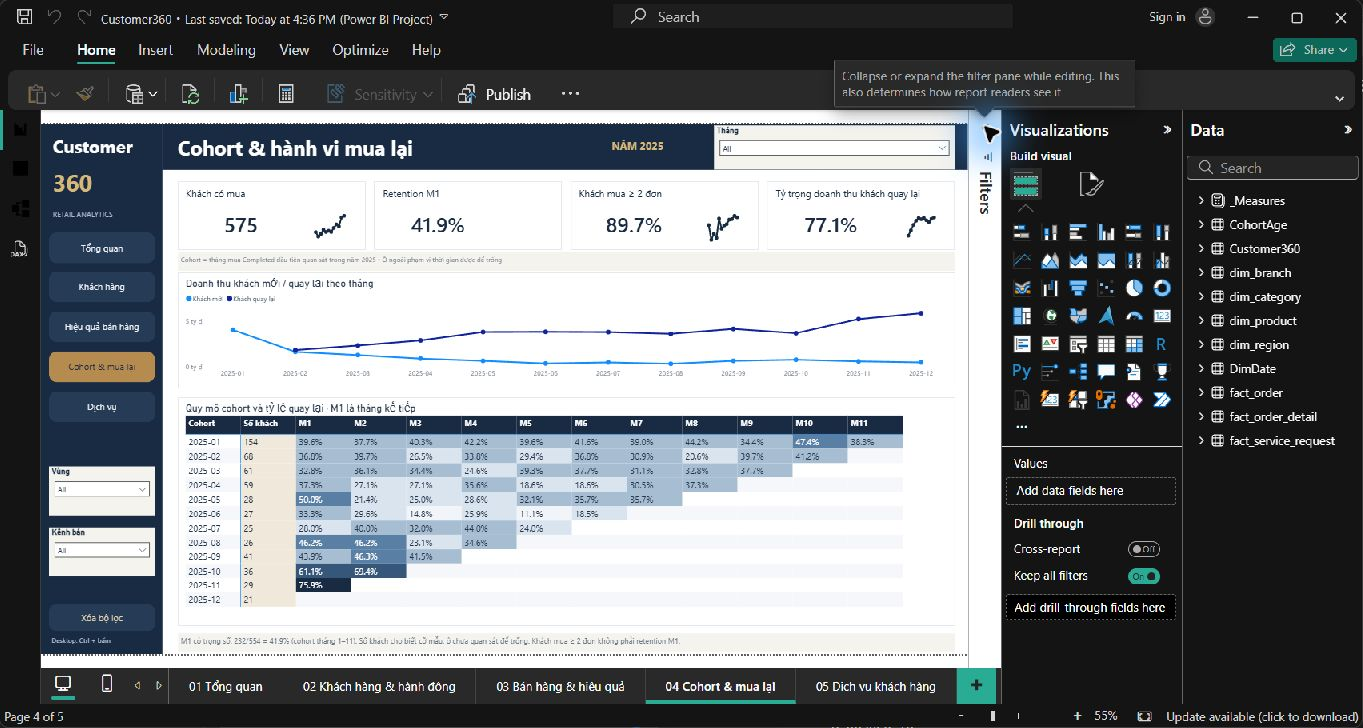

The page's visual inventory and layout, read from the dashboard file:
{"tool":"powerbi","page":{"name":"04 Cohort & mua lại","canvas":[1680,960],"ordinal":3},"visuals":[{"type":"textbox","box":[0,0,220,960],"z":0},{"type":"textbox","box":[220,0,1460,82],"z":0},{"type":"actionButton","box":[248,104,340,124],"z":1},{"type":"actionButton","box":[604,104,340,124],"z":1},{"type":"actionButton","box":[960,104,340,124],"z":1},{"type":"actionButton","box":[1316,104,340,124],"z":1},{"type":"actionButton","box":[248,268,1408,210],"z":1},{"type":"actionButton","box":[248,494,1408,414],"z":1},{"type":"actionButton","box":[14,195,192,56],"z":20},{"type":"actionButton","box":[14,267,192,56],"z":20},{"type":"actionButton","box":[14,339,192,56],"z":20},{"type":"actionButton","box":[14,411,192,56],"z":20},{"type":"actionButton","box":[14,483,192,56],"z":20},{"type":"actionButton","box":[14,870,192,48],"z":20},{"type":"textbox","box":[248,230,1408,35],"z":42},{"type":"slicer","title":"Tháng","fields":{"Values":["DimDate.MonthLabel"]},"box":[1220,1,436,80],"z":43},{"type":"slicer","title":"Vùng","fields":{"Values":["dim_region.region_name"]},"box":[14,620,192,89],"z":44},{"type":"lineChart","title":"Doanh thu khách mới / quay lại theo tháng","fields":{"Category":["DimDate.MonthLabel"],"Series":["fact_order.purchase_month_type"],"Y":["_Measures.Revenue Bn"]},"box":[258,276,1388,194],"z":45},{"type":"pivotTable","title":"Quy mô cohort và tỷ lệ quay lại · M1 là tháng kế tiếp","fields":{"Columns":["CohortAge.MonthLabel"],"Rows":["Customer360.cohort_month"],"Values":["_Measures.Cohort Cell"]},"box":[258,502,1388,398],"z":45},{"type":"slicer","title":"Kênh bán","fields":{"Values":["fact_order.sales_channel"]},"box":[14,730,192,89],"z":45},{"type":"textbox","box":[248,923,1408,33],"z":52},{"type":"card","fields":{"Values":["_Measures.Buying Customers"]},"box":[256,144,214,76],"z":60},{"type":"card","fields":{"Values":["_Measures.Retention M1 Weighted"]},"box":[612,144,214,76],"z":60},{"type":"card","fields":{"Values":["_Measures.Repeat Buyer Rate"]},"box":[968,144,214,76],"z":60},{"type":"card","fields":{"Values":["_Measures.Returning Revenue Share"]},"box":[1324,144,214,76],"z":60},{"type":"lineChart","fields":{"Category":["DimDate.MonthNumber"],"Y":["_Measures.Buying Customers"]},"box":[479,149,100,70],"z":65},{"type":"lineChart","fields":{"Category":["DimDate.MonthNumber"],"Y":["_Measures.Repeat Buyer Rate"]},"box":[1191,149,100,70],"z":65},{"type":"lineChart","fields":{"Category":["DimDate.MonthNumber"],"Y":["_Measures.Returning Revenue Share"]},"box":[1547,149,100,70],"z":65},{"type":"textbox","box":[16,12,196,70],"z":80},{"type":"textbox","box":[242,12,790,65],"z":80},{"type":"textbox","box":[1030,21,170,48],"z":80},{"type":"textbox","box":[16,73,196,76],"z":80},{"type":"textbox","box":[258,108,318,42],"z":80},{"type":"textbox","box":[614,108,318,42],"z":80},{"type":"textbox","box":[970,108,318,42],"z":80},{"type":"textbox","box":[1326,108,318,42],"z":80},{"type":"textbox","box":[16,149,196,40],"z":80},{"type":"textbox","box":[14,921,196,33],"z":80}]}

Visuals, with their boxes on the page's 1680x960 design canvas (x1, y1, x2, y2). These are canvas units, not pixel positions in the 1363x728 screenshot, which may show the page scaled, cropped or inside an application window:
textbox: [0,0,220,960]
textbox: [220,0,1680,82]
actionButton: [248,104,588,228]
actionButton: [604,104,944,228]
actionButton: [960,104,1300,228]
actionButton: [1316,104,1656,228]
actionButton: [248,268,1656,478]
actionButton: [248,494,1656,908]
actionButton: [14,195,206,251]
actionButton: [14,267,206,323]
actionButton: [14,339,206,395]
actionButton: [14,411,206,467]
actionButton: [14,483,206,539]
actionButton: [14,870,206,918]
textbox: [248,230,1656,265]
"Tháng" slicer: [1220,1,1656,81]
"Vùng" slicer: [14,620,206,709]
"Doanh thu khách mới / quay lại theo tháng" lineChart: [258,276,1646,470]
"Quy mô cohort và tỷ lệ quay lại · M1 là tháng kế tiếp" pivotTable: [258,502,1646,900]
"Kênh bán" slicer: [14,730,206,819]
textbox: [248,923,1656,956]
card - _Measures.Buying Customers: [256,144,470,220]
card - _Measures.Retention M1 Weighted: [612,144,826,220]
card - _Measures.Repeat Buyer Rate: [968,144,1182,220]
card - _Measures.Returning Revenue Share: [1324,144,1538,220]
lineChart - DimDate.MonthNumber x _Measures.Buying Customers: [479,149,579,219]
lineChart - DimDate.MonthNumber x _Measures.Repeat Buyer Rate: [1191,149,1291,219]
lineChart - DimDate.MonthNumber x _Measures.Returning Revenue Share: [1547,149,1647,219]
textbox: [16,12,212,82]
textbox: [242,12,1032,77]
textbox: [1030,21,1200,69]
textbox: [16,73,212,149]
textbox: [258,108,576,150]
textbox: [614,108,932,150]
textbox: [970,108,1288,150]
textbox: [1326,108,1644,150]
textbox: [16,149,212,189]
textbox: [14,921,210,954]
